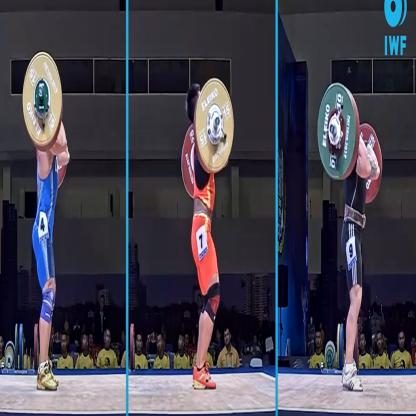Barbell: (315, 71, 365, 188), (188, 72, 237, 178), (18, 42, 64, 150)
